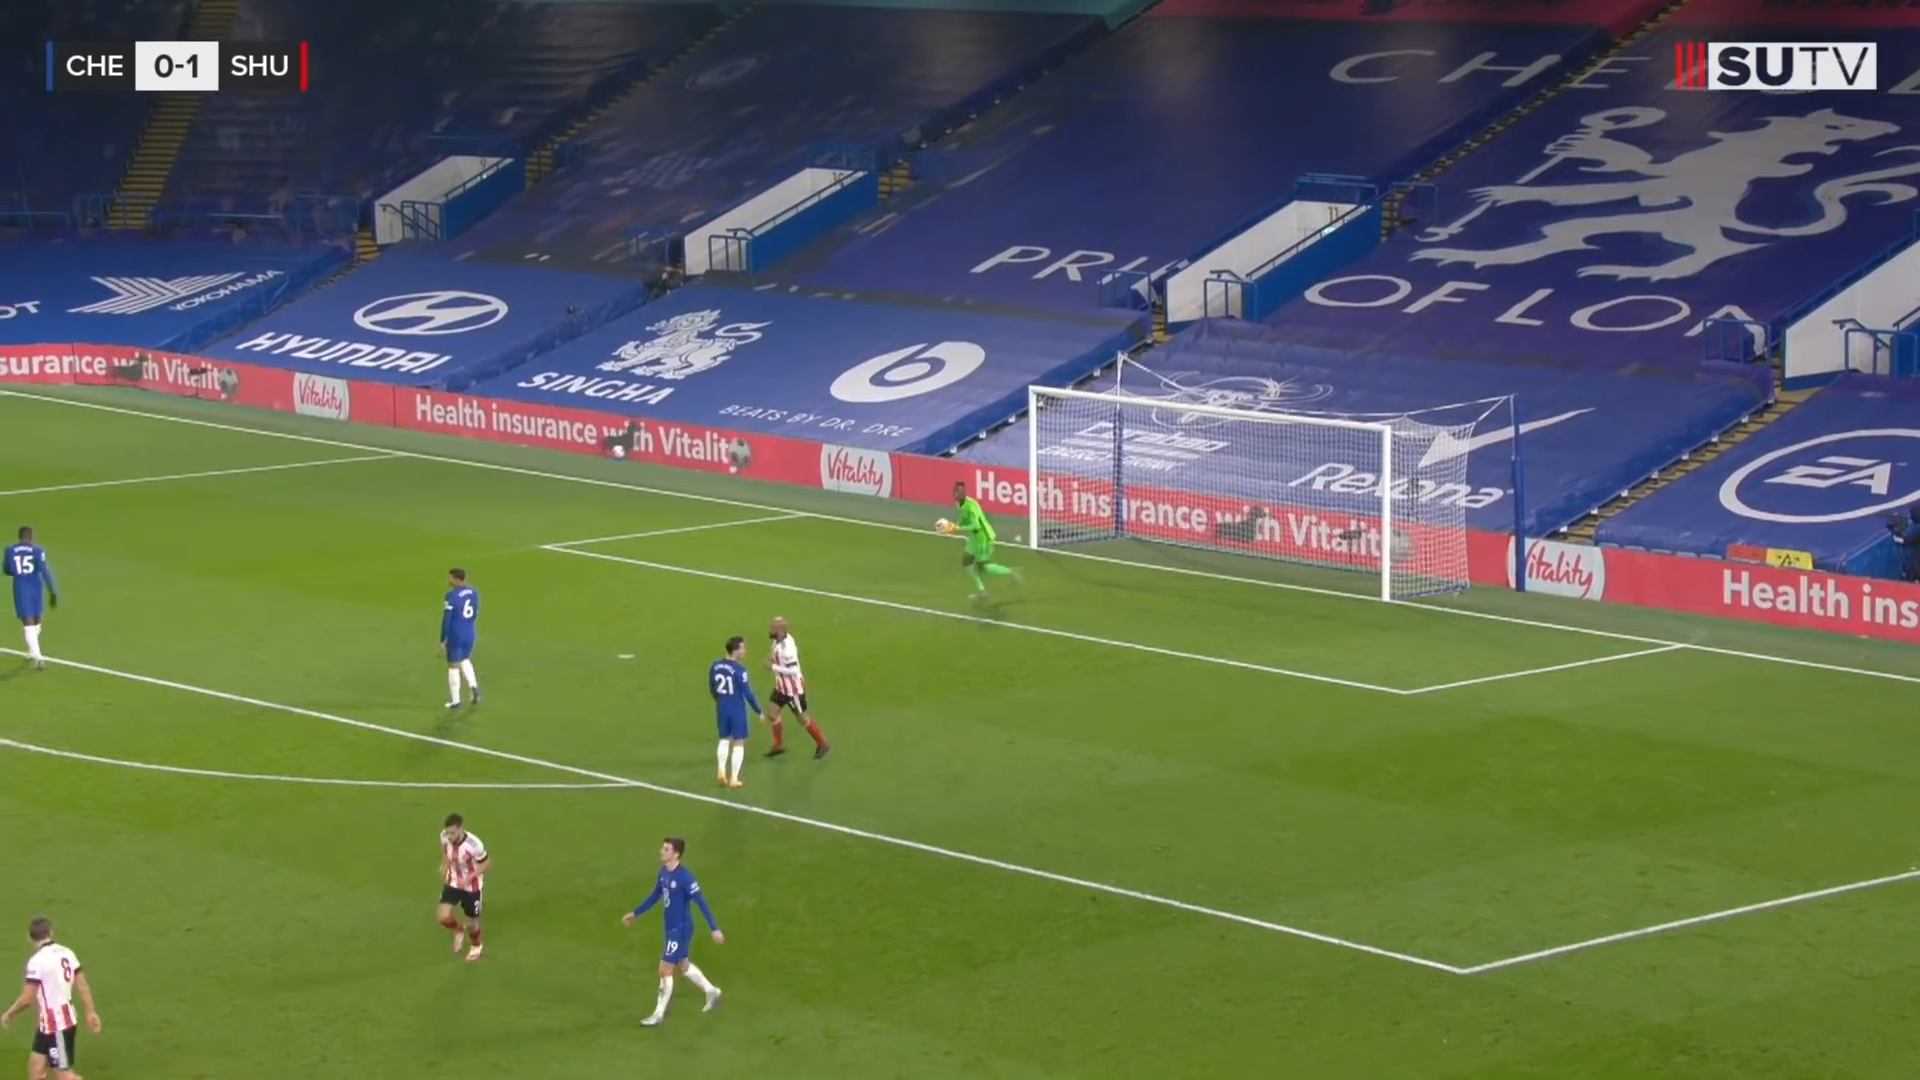Player: (615, 829, 732, 1047), (925, 464, 1028, 611), (421, 800, 506, 973), (678, 624, 765, 792), (413, 548, 489, 718)
